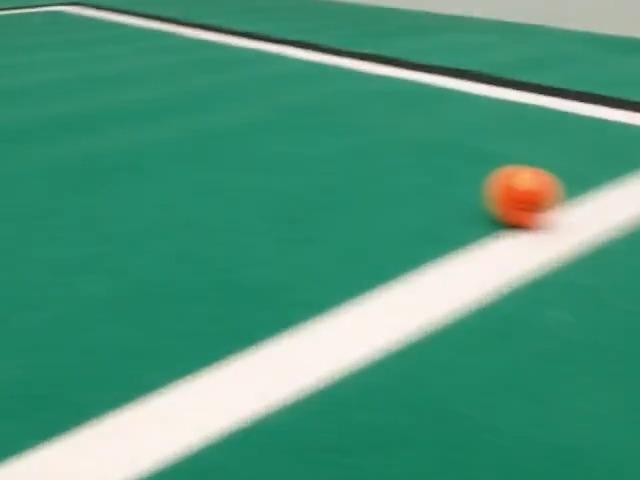Ball: (483, 165, 562, 227)
